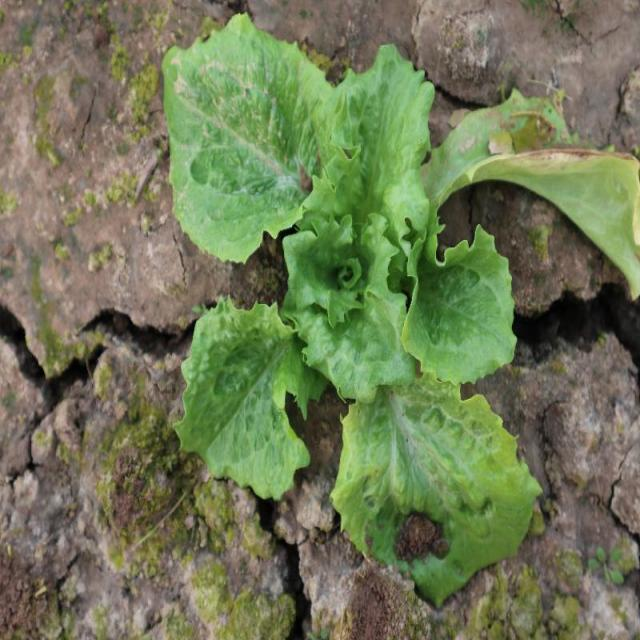crop: (164, 25, 515, 502)
